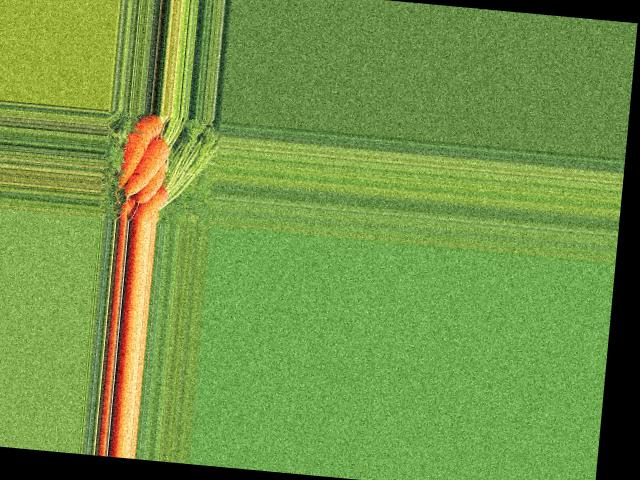carrot: (129, 184, 173, 221)
